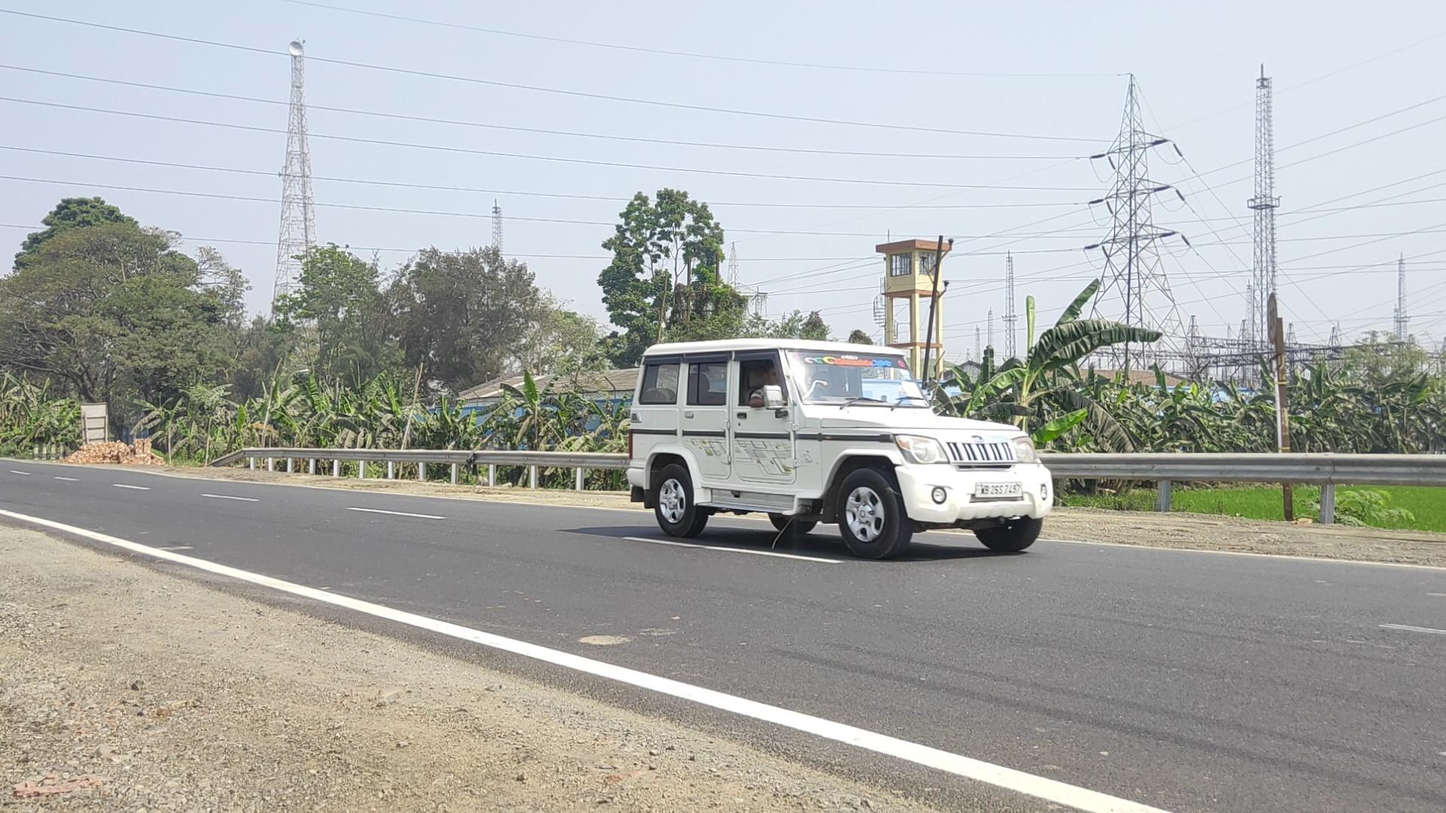car: (627, 338, 1054, 559)
